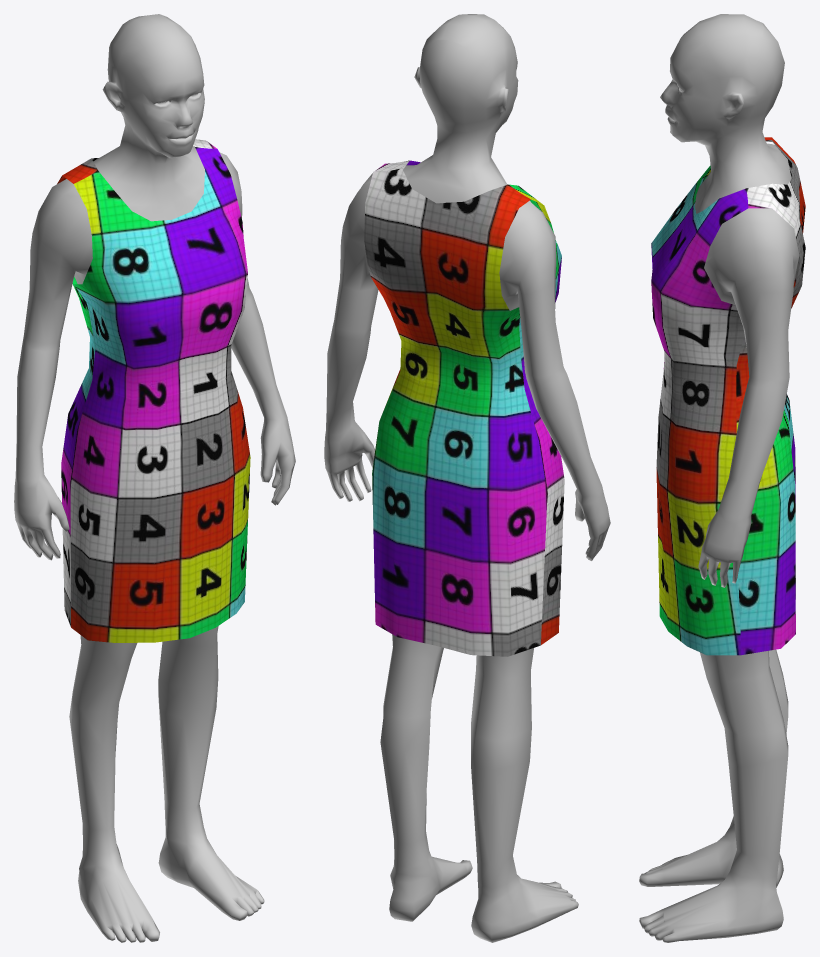
3 views of the same model, side by side, from view 1: azimuth 30°, elevation 25°; view 2: azimuth 150°, elevation 25°; view 3: azimuth 270°, elevation 25° (orthographic).
Parts seen in each view (by area): view 1: Female; view 2: Female; view 3: Female.
Part boxes in pixels (x1=…): Female: x1=14, y1=14, x2=295, y2=942; Female: x1=324, y1=14, x2=610, y2=942; Female: x1=639, y1=14, x2=805, y2=942.
Size of the model in its own units: 0.5164 by 1.6 by 0.2715.
Materials: 2 (1 with a texture image).
